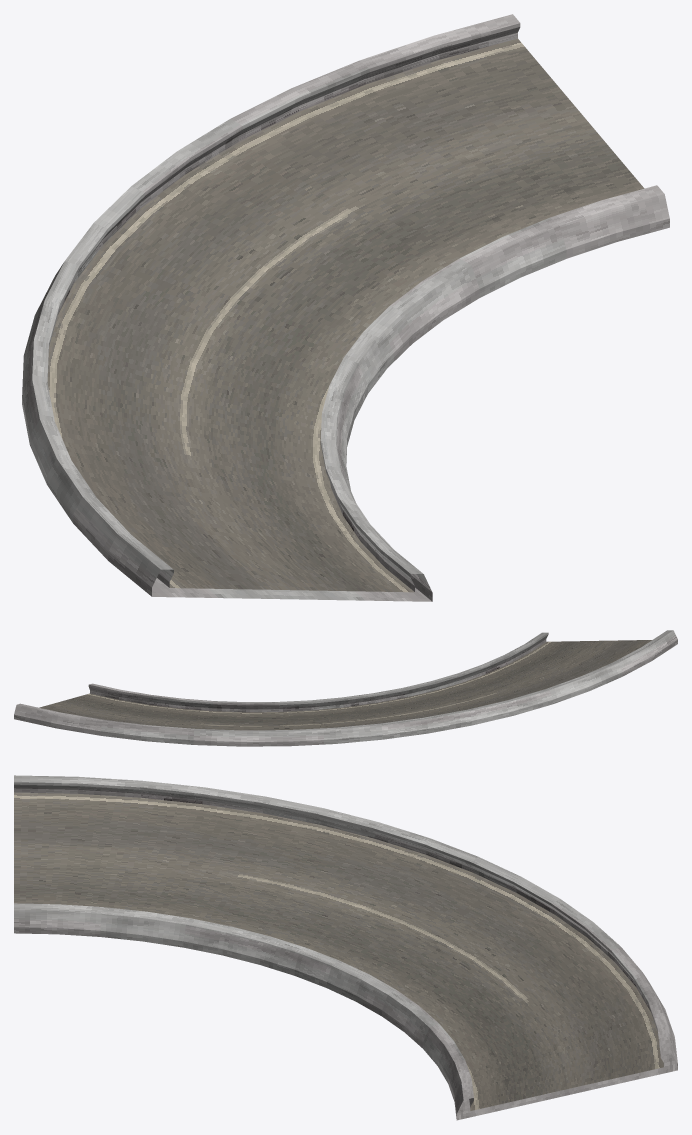
File: turn-right3x3.glb
3 views of the same model, one above another, from view 1: azimuth 30°, elevation 25°; view 2: azimuth 150°, elevation 25°; view 3: azimuth 270°, elevation 25° (orthographic). The views are drawn at different scales.
Visible parts, largest first — view 1: road-Turn-HalfBankedRight-HalfBankedRight-Even-Right-Size3; view 2: road-Turn-HalfBankedRight-HalfBankedRight-Even-Right-Size3; view 3: road-Turn-HalfBankedRight-HalfBankedRight-Even-Right-Size3.
Boxes of the visible parts, box(x1,y1,x2,y2) form: road-Turn-HalfBankedRight-HalfBankedRight-Even-Right-Size3: box(22, 14, 669, 601); road-Turn-HalfBankedRight-HalfBankedRight-Even-Right-Size3: box(14, 630, 677, 746); road-Turn-HalfBankedRight-HalfBankedRight-Even-Right-Size3: box(14, 775, 677, 1120).
Bounding box in the file's own units: 3 × 0.3359 × 3.
Materials: 2 (2 with a texture image).
